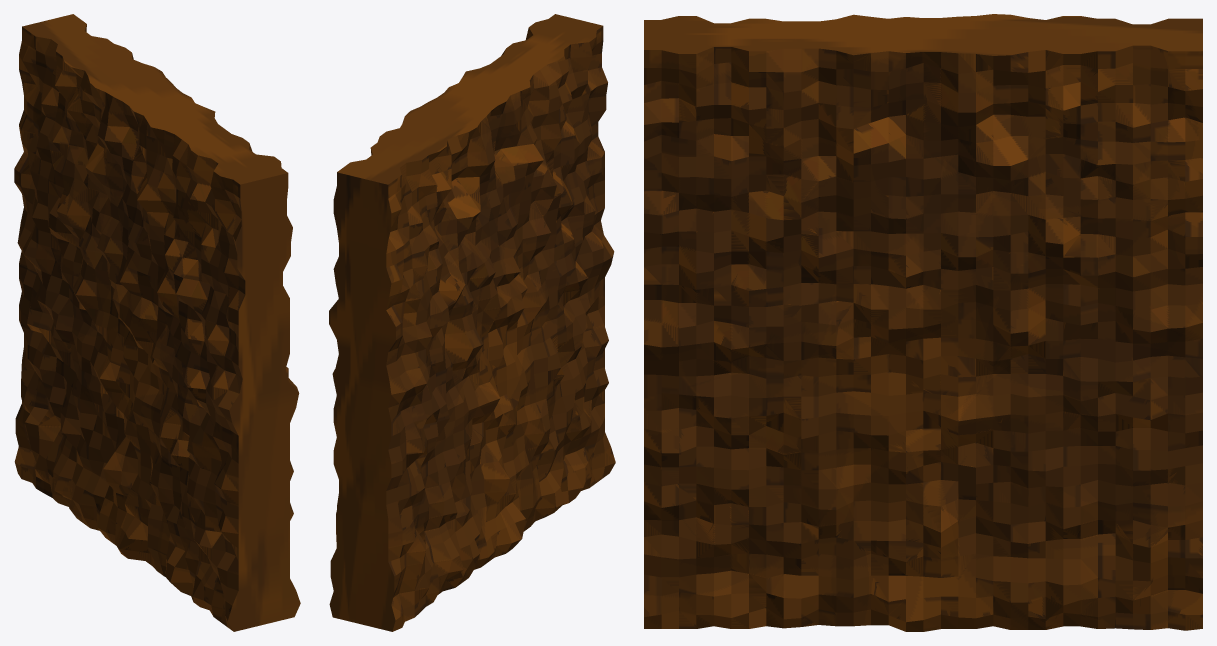
File: wallTile.fbx
The picture shows the model from 3 angles, left to right: view 1: azimuth 30°, elevation 25°; view 2: azimuth 150°, elevation 25°; view 3: azimuth 270°, elevation 25°; orthographic projection. The views are drawn at different scales.
Parts seen in each view (by area): view 1: Cube; view 2: Cube; view 3: Cube.
Part boxes in pixels (x1,y1,x2,y2): Cube: (14,14,300,631); Cube: (329,14,615,631); Cube: (644,14,1202,631).
Bounding box in the file's own units: 370 × 1657 × 1459.
